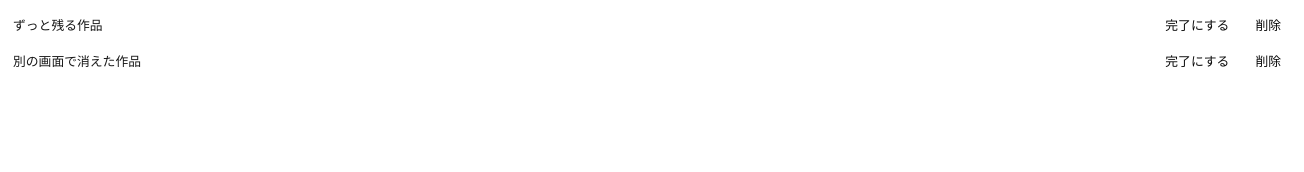
WorkList のステータス変更 › 既に消えた作品の変更は、エラーを表示し、取り直して一覧から消える
The image size is (1304, 172).
Click the button with aria-label "「別の画面で消えた作品」を完了にする" at (1197, 62), box [1154, 48, 1240, 76]
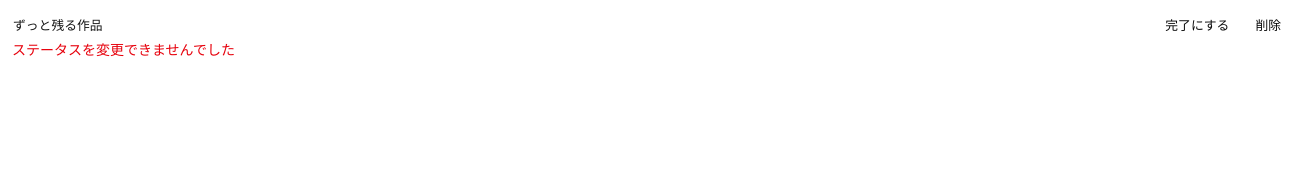
Expected: the button "ずっと残る作品" is shown, [12, 15, 104, 37]
Result: the message reads "ステータスを変更できませんでした" at [12, 42, 235, 58]
Result: the button "別の画面で消えた作品" is gone
